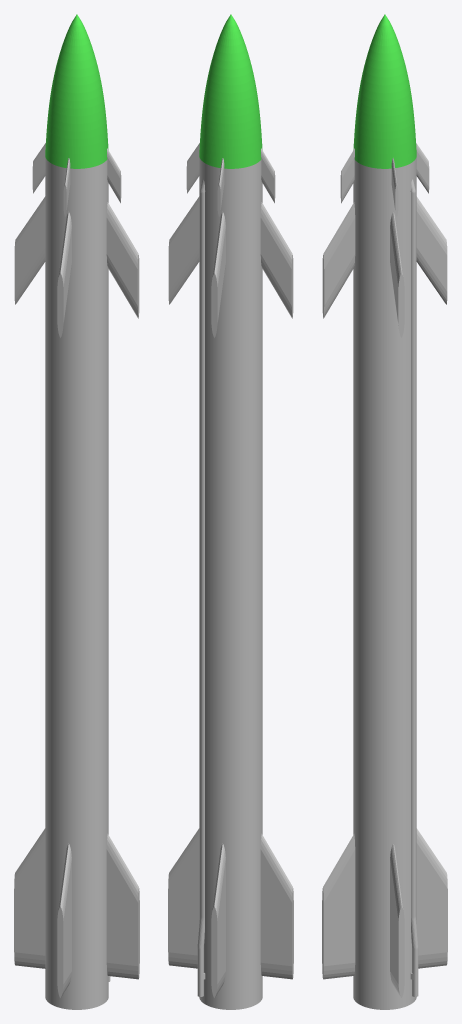
Rendered from missile.gltf.
3 renders of one model, left to right at view 1: azimuth 30°, elevation 25°; view 2: azimuth 210°, elevation 25°; view 3: azimuth 330°, elevation 25°, orthographic.
Parts seen in each view (by area): view 1: Cylinder; view 2: Cylinder; view 3: Cylinder.
Boxes of the visible parts, x1,y1,x2,y2 form: Cylinder: (14,14,139,1009); Cylinder: (168,14,293,1009); Cylinder: (322,14,447,1009).
Size of the model in its own units: 0.2976 by 3.38 by 0.2976.
